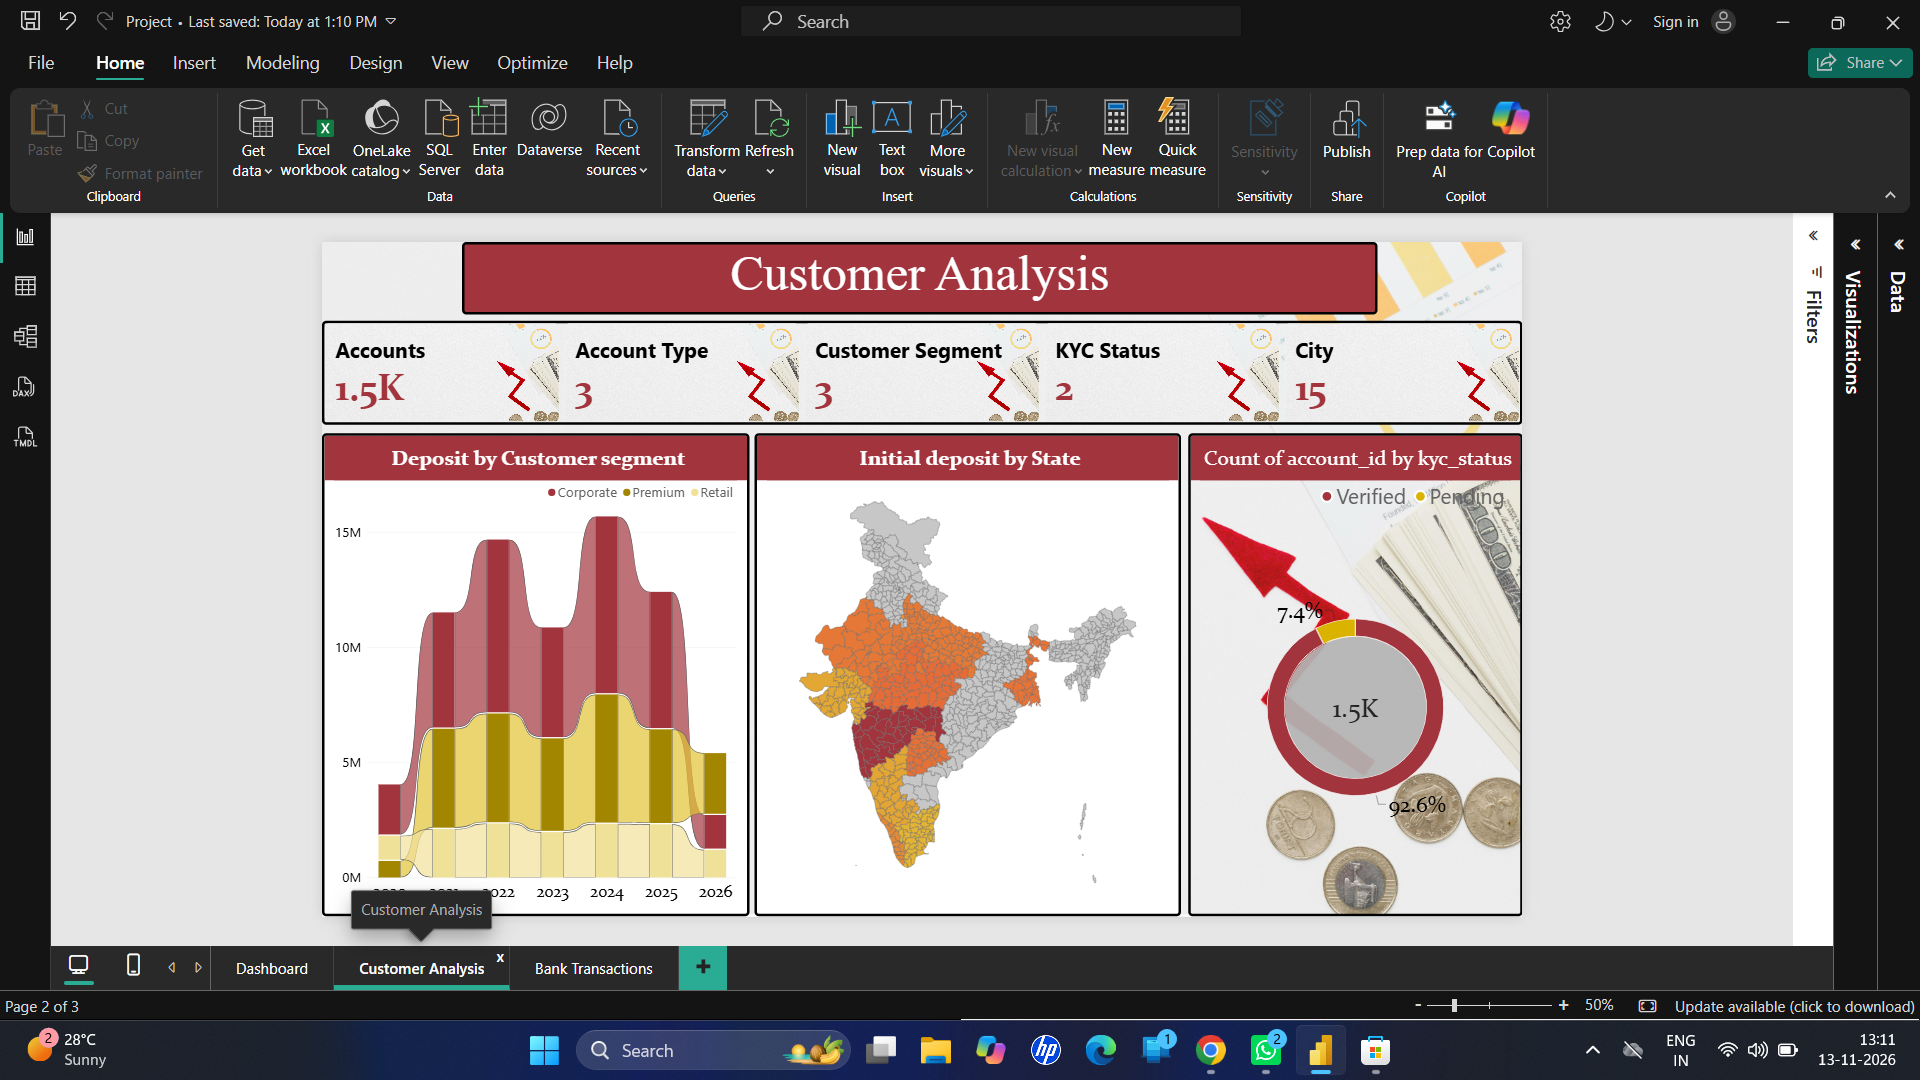

Layout of this report page (visuals, bound fields, positions):
{"tool":"powerbi","page":{"name":"Customer Analysis","canvas":[1920,1080],"ordinal":1},"visuals":[{"type":"textbox","box":[224.2,0,1464.7,115.9],"z":0},{"type":"cardVisual","fields":{"Data":["Count(accounts.account_id)","Count(accounts.account_type)","Count(accounts.customer_segment)","Count(accounts.kyc_status)","Count(accounts.city)"]},"box":[0,125,1920.8,166.2],"z":1000},{"type":"ribbonChart","title":"Deposit by Customer segment","fields":{"Category":["accounts.account_open_date.Variation.Date Hierarchy.Year"],"Series":["accounts.customer_segment"],"Y":["Sum(accounts.initial_deposit)"]},"box":[0,305.3,684.1,773],"z":2000},{"type":"shapeMap","title":"Initial deposit by State","fields":{"Category":["accounts.state"],"Value":["Sum(accounts.initial_deposit)"]},"box":[691.8,305.3,682,773],"z":3000},{"type":"donutChart","fields":{"Category":["accounts.kyc_status"],"Y":["CountNonNull(accounts.account_id)"]},"box":[1385,305,535,773],"z":4000}]}

Visuals, with their boxes on the page's 1920x1080 design canvas (x1, y1, x2, y2). These are canvas units, not pixel positions in the 1920x1080 screenshot, which may show the page scaled, cropped or inside an application window:
textbox: 224:0:1689:116
cardVisual - Count(accounts.account_id) x Count(accounts.account_type): 0:125:1921:291
"Deposit by Customer segment" ribbonChart: 0:305:684:1078
"Initial deposit by State" shapeMap: 692:305:1374:1078
donutChart - accounts.kyc_status x CountNonNull(accounts.account_id): 1385:305:1920:1078
